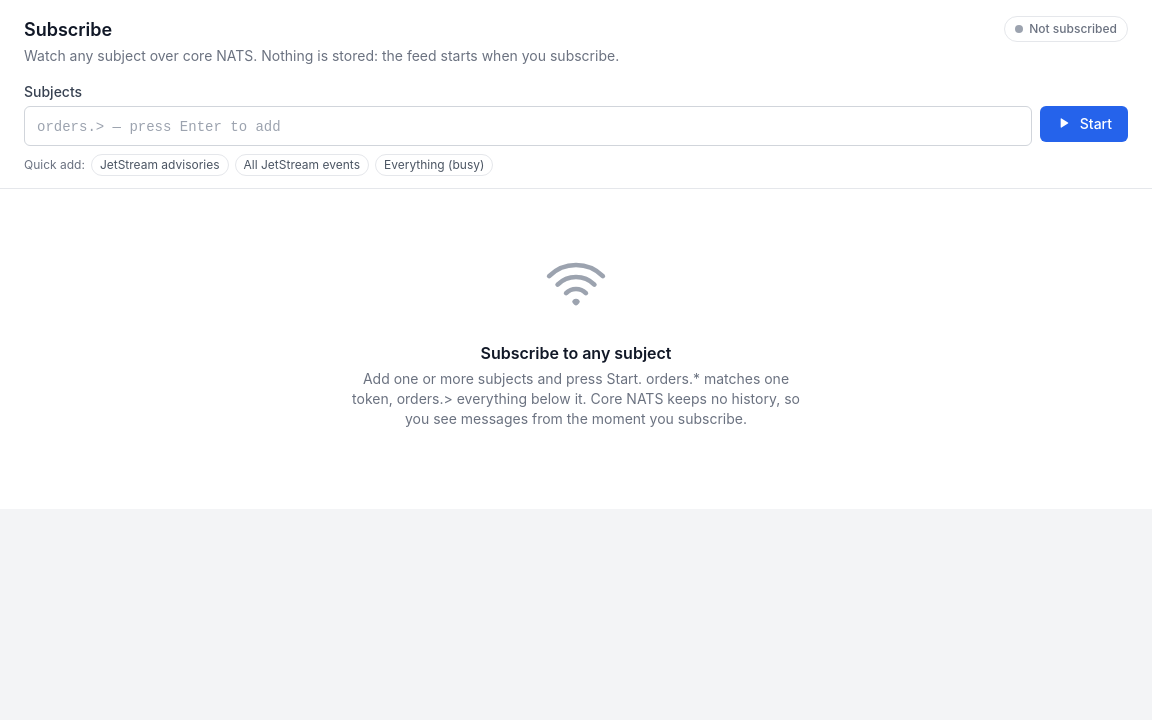
SubscribePage › asks for a subject instead of starting with none
The image size is (1152, 720).
Click the button "Start": (1084, 124) [1040, 106, 1128, 142]
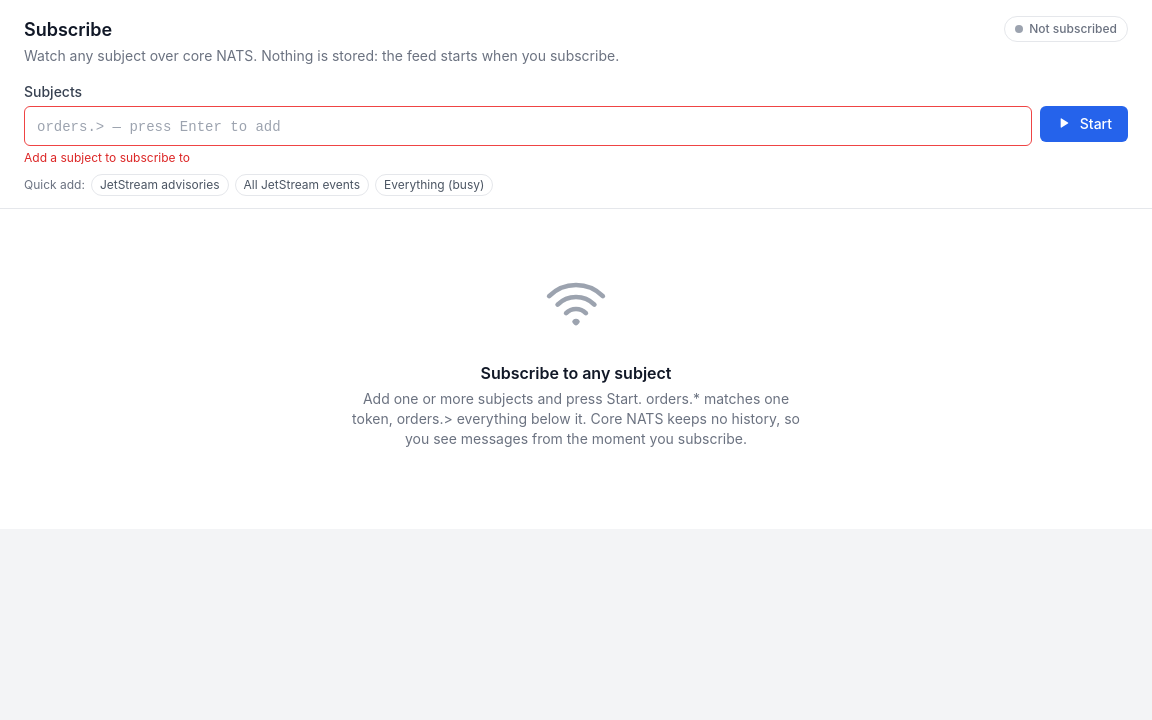
Expected: the text with test id "subject-error" reads "Add a subject to subscribe to", [24, 150, 190, 165]
